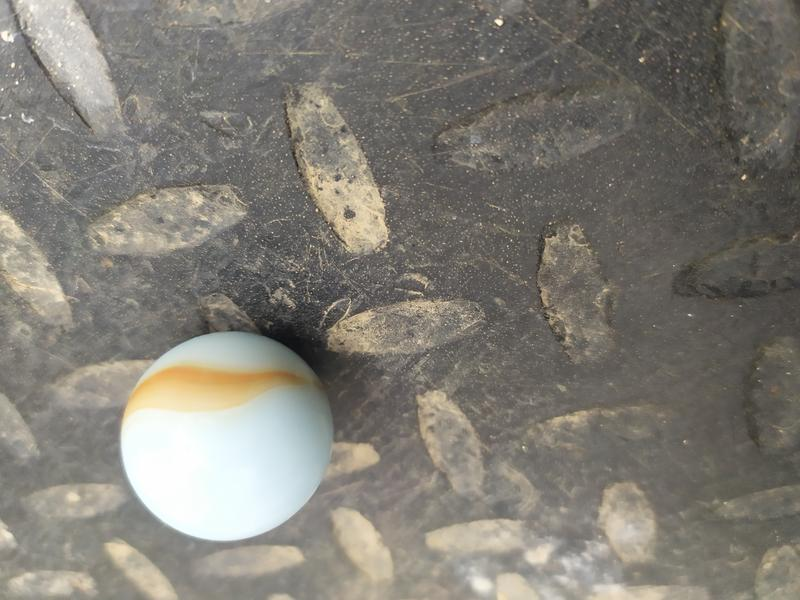Warning: (114, 325, 340, 546)
